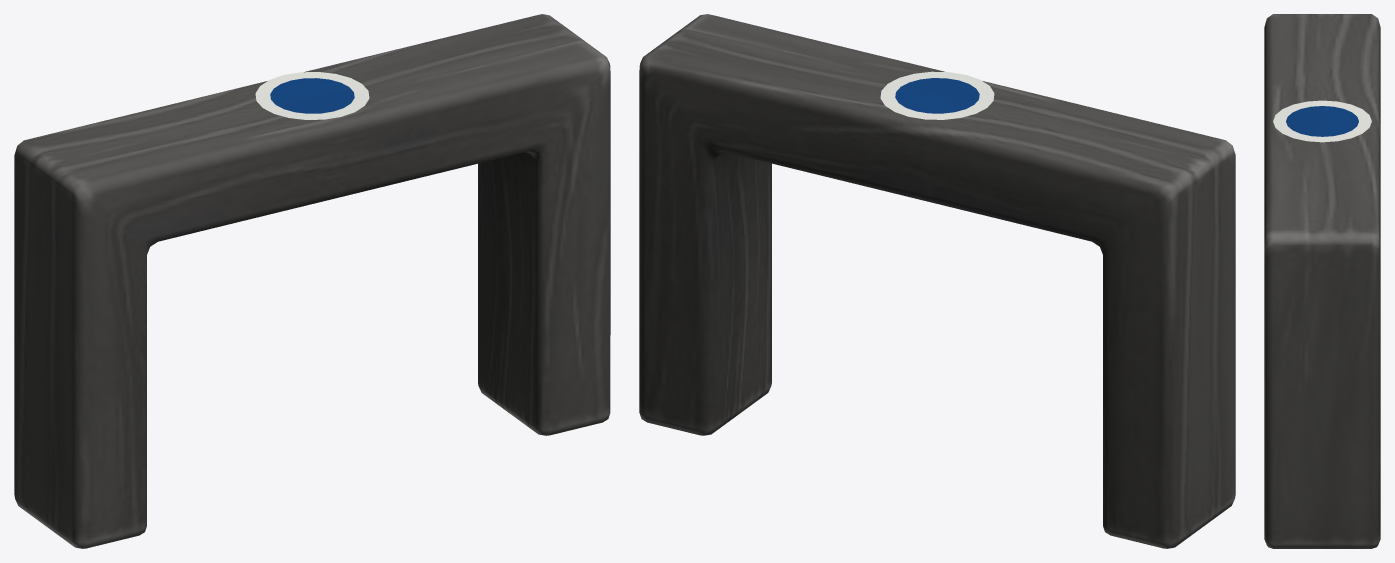
The picture shows the model from 3 angles, left to right: view 1: azimuth 30°, elevation 25°; view 2: azimuth 150°, elevation 25°; view 3: azimuth 270°, elevation 25°; orthographic projection. The views are drawn at different scales.
Visible parts, largest first — view 1: shape1_2, top_cycle; view 2: shape1_2, top_cycle; view 3: shape1_2, top_cycle.
Part boxes in pixels (x1=…): shape1_2: x1=14, y1=14, x2=610, y2=548; top_cycle: x1=255, y1=72, x2=369, y2=119; shape1_2: x1=639, y1=14, x2=1235, y2=548; top_cycle: x1=880, y1=71, x2=994, y2=119; shape1_2: x1=1264, y1=14, x2=1380, y2=548; top_cycle: x1=1273, y1=100, x2=1371, y2=142.
Size of the model in its own units: 23 by 15.09 by 5.
